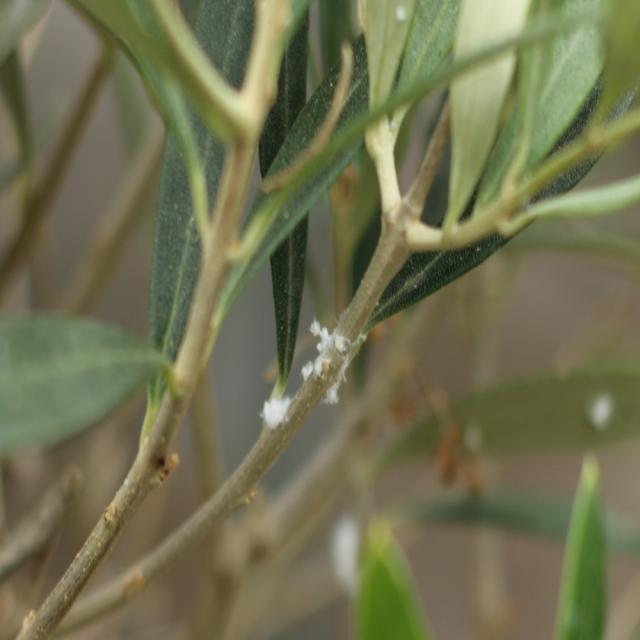Psyllid: (301, 319, 366, 405), (259, 394, 292, 431)
